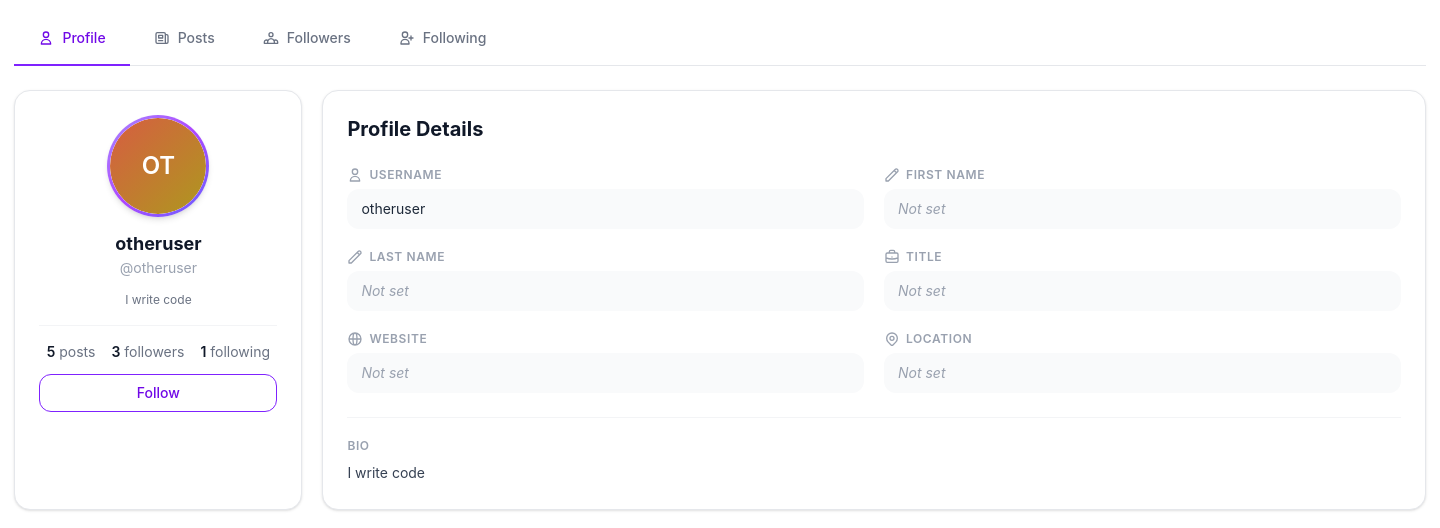
ProfilePage — other user (/user/:userId) › shows 'No followers yet' on Followers tab when empty
Check: the text "@otheruser" is shown, box [120, 258, 197, 278]
Click the button "Followers" at (307, 39), box [239, 12, 375, 66]
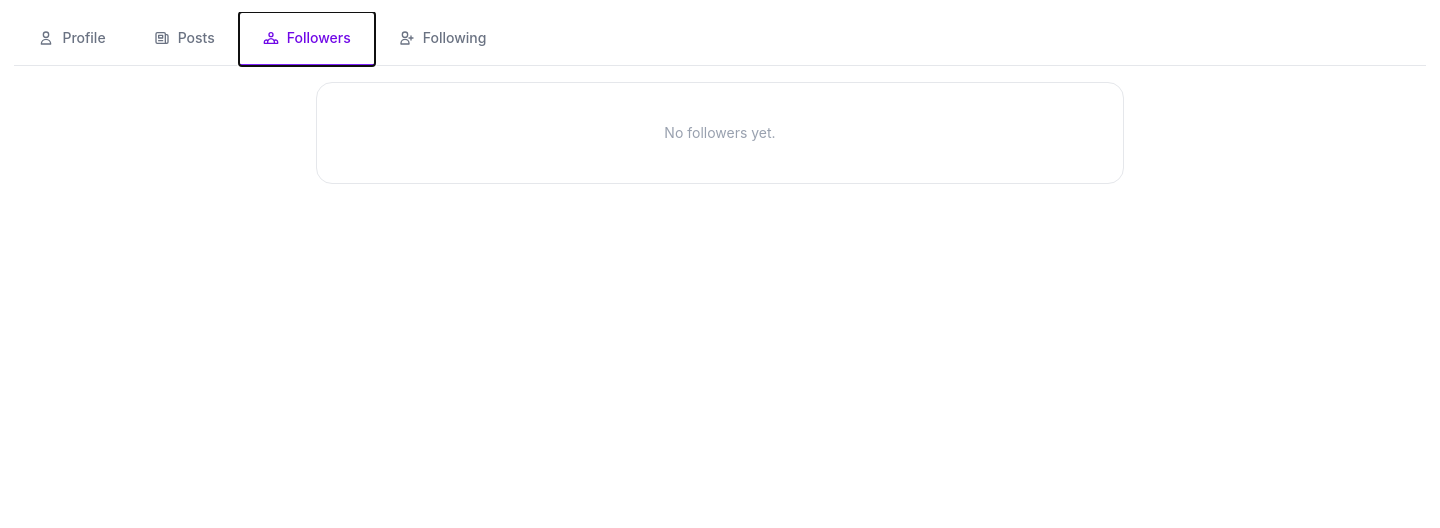
Check: the text "No followers yet." is shown, box [664, 124, 776, 141]
